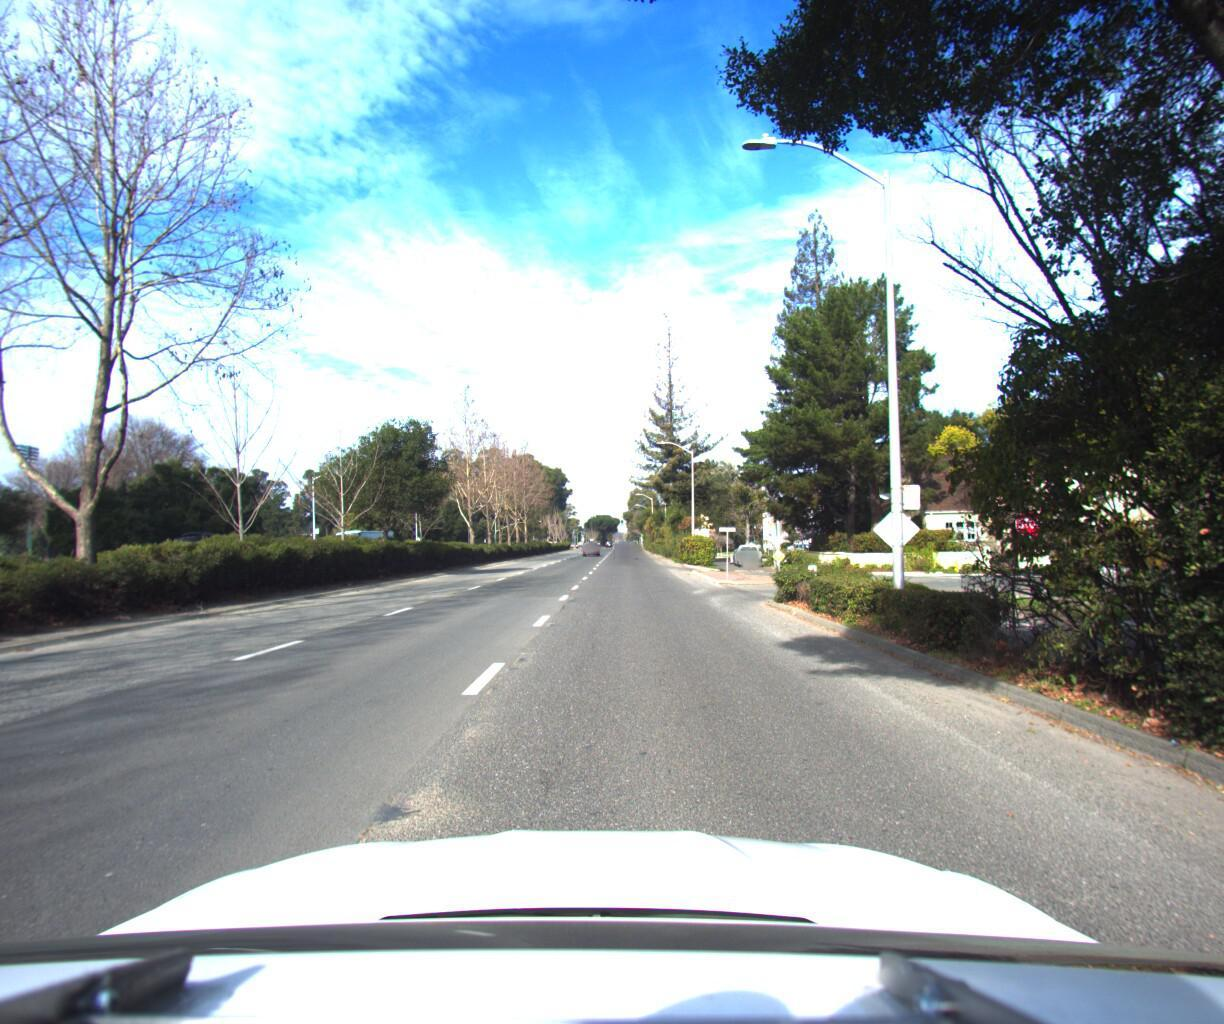car: (731, 533, 759, 559), (614, 534, 634, 552)
